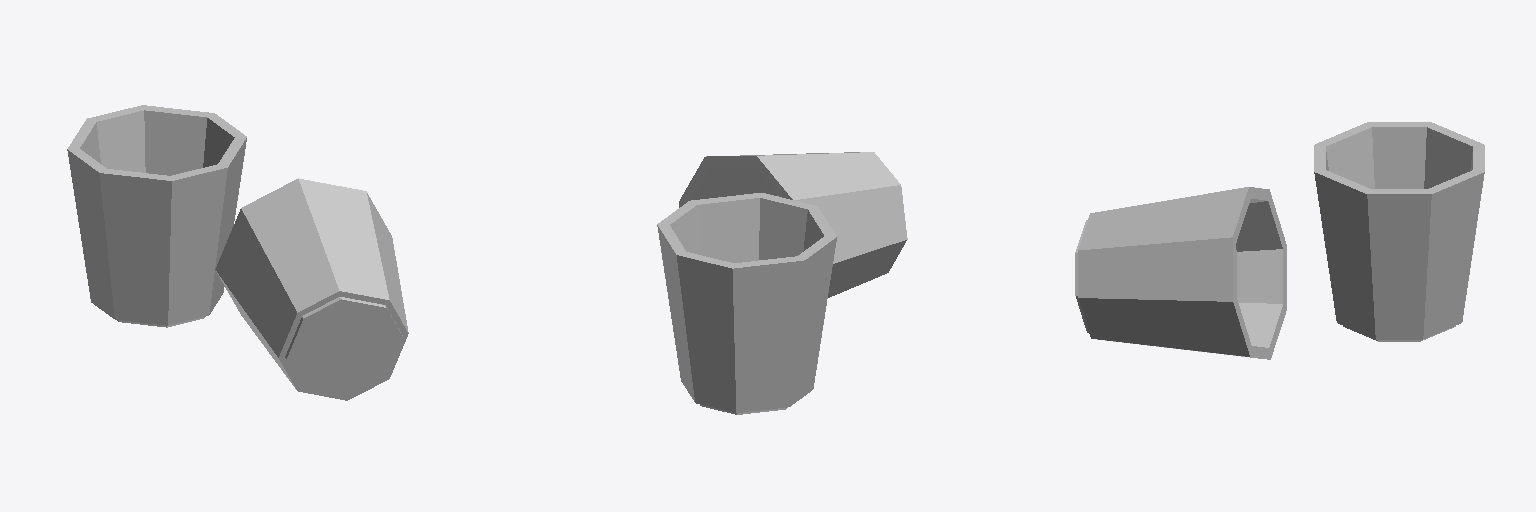
Rendered from cup4.obj.
3 renders of one model, left to right at view 1: azimuth 30°, elevation 25°; view 2: azimuth 150°, elevation 25°; view 3: azimuth 270°, elevation 25°, orthographic.
Parts seen in each view (by area): view 1: Cube.018; view 2: Cube.018; view 3: Cube.018.
Part boxes in pixels (bbox=[...]): Cube.018: bbox=[67, 105, 408, 400]; Cube.018: bbox=[657, 152, 907, 414]; Cube.018: bbox=[1075, 122, 1484, 359].
Bounding box in the file's own units: 0.8091 × 0.5645 × 1.27.